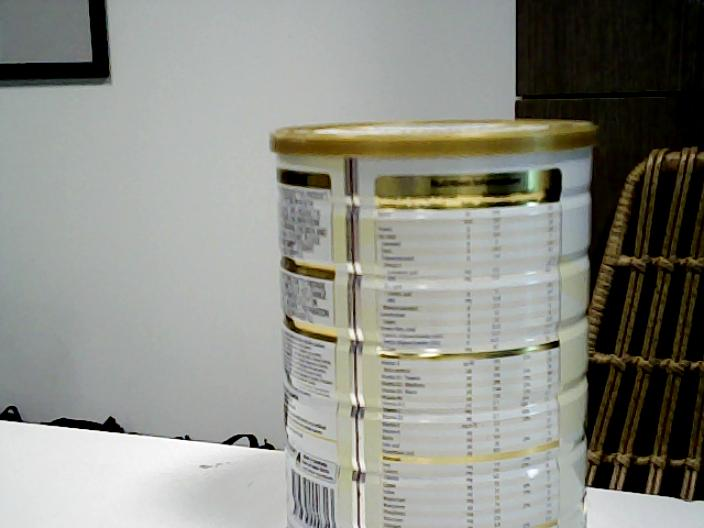Babymilk-powder_900-999g_NonHalal_NonHealthy: (268, 119, 600, 528)
